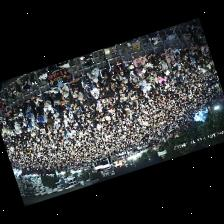person: (99, 54, 111, 79), (113, 58, 124, 76), (145, 52, 160, 65), (68, 77, 80, 93), (132, 55, 145, 69), (42, 94, 51, 114), (86, 67, 98, 81), (61, 89, 71, 105), (46, 88, 60, 99), (87, 93, 97, 107), (110, 70, 119, 85), (29, 95, 41, 106), (81, 73, 91, 86), (159, 60, 168, 74), (0, 111, 10, 123), (58, 84, 68, 96), (53, 100, 60, 117), (73, 86, 82, 99), (90, 84, 98, 98), (146, 67, 157, 77), (100, 79, 110, 90), (24, 105, 30, 123), (171, 46, 180, 58), (128, 68, 136, 81), (80, 99, 89, 110), (92, 76, 101, 87), (81, 80, 90, 91), (143, 59, 151, 71), (164, 56, 174, 65), (19, 102, 27, 113), (34, 116, 42, 127), (179, 47, 188, 56), (27, 100, 35, 110), (80, 90, 86, 103), (46, 117, 52, 129), (124, 60, 133, 68), (148, 75, 155, 85), (98, 87, 106, 95), (119, 75, 127, 83), (12, 105, 20, 113), (164, 47, 171, 56), (42, 114, 47, 126), (139, 68, 145, 78), (174, 59, 183, 65), (152, 63, 161, 69), (30, 112, 34, 125), (192, 44, 197, 54), (189, 43, 193, 54), (135, 67, 140, 73), (0, 116, 2, 121)
